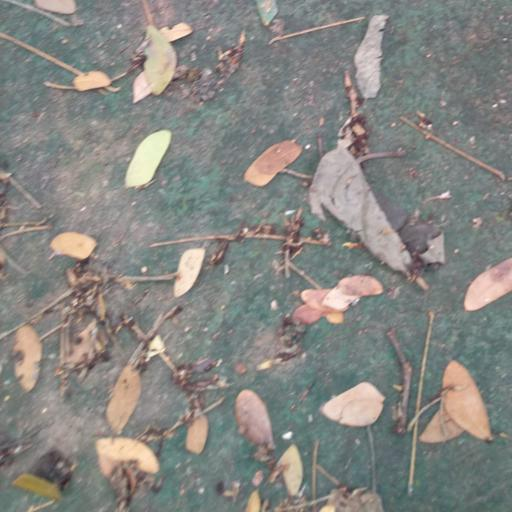algae: (5, 1, 512, 512)
